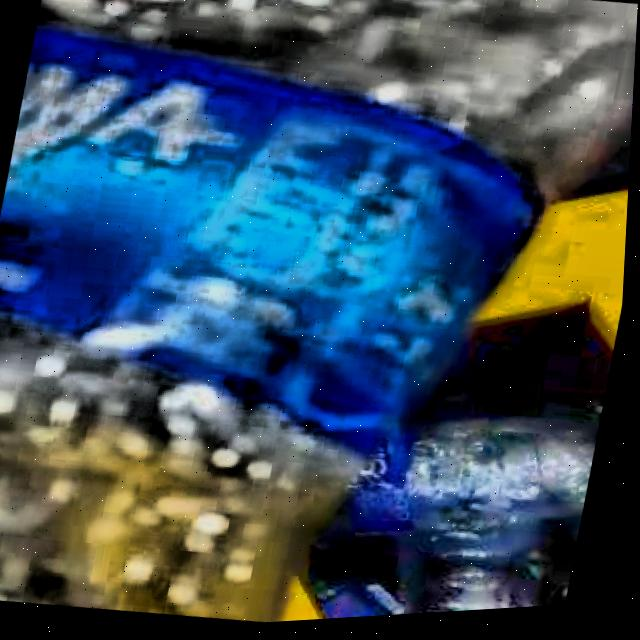plastic: (0, 0, 638, 626)
